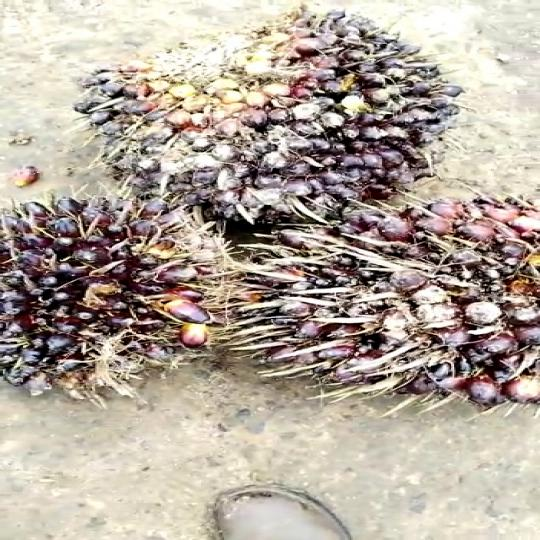kurang masak: (81, 7, 483, 221), (238, 181, 540, 411), (0, 184, 253, 416)
